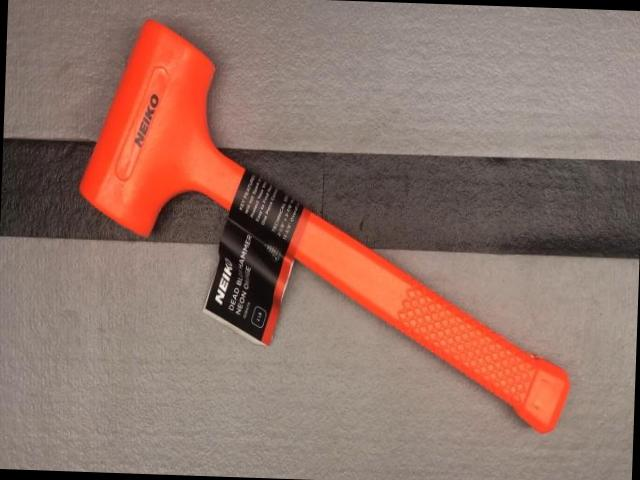hammer: (72, 19, 584, 435)
